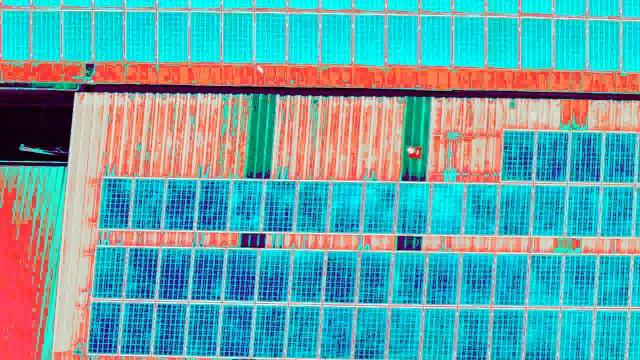dirty: (286, 306, 322, 360), (321, 306, 357, 360), (355, 304, 391, 358), (391, 306, 427, 360), (418, 306, 454, 360), (453, 306, 489, 360), (486, 306, 522, 360), (524, 306, 560, 360), (563, 306, 599, 360), (594, 305, 630, 359), (1, 8, 32, 63), (31, 5, 62, 60), (62, 7, 93, 62), (94, 10, 125, 65), (127, 7, 158, 62), (158, 9, 189, 64), (193, 9, 224, 64), (224, 8, 255, 63), (257, 11, 288, 66), (289, 10, 320, 65), (323, 12, 354, 67), (354, 11, 385, 66), (387, 12, 418, 67), (420, 12, 451, 67), (454, 13, 485, 68), (488, 14, 519, 69), (521, 16, 552, 71), (556, 17, 587, 72), (589, 18, 620, 73)
semi: (534, 128, 572, 180), (497, 129, 535, 181), (572, 131, 610, 183), (94, 176, 132, 228), (132, 175, 166, 229), (165, 176, 199, 230), (197, 179, 231, 233), (229, 179, 263, 233), (259, 178, 293, 232), (292, 180, 326, 234), (327, 180, 361, 234), (363, 181, 397, 235), (395, 181, 429, 235), (428, 182, 462, 236), (463, 181, 497, 235), (499, 182, 533, 236), (532, 183, 566, 237), (569, 182, 603, 236), (90, 246, 124, 300), (125, 246, 159, 300), (157, 246, 191, 300), (193, 246, 225, 300), (227, 252, 259, 306), (259, 250, 291, 304), (290, 251, 322, 305), (325, 250, 357, 304), (358, 253, 390, 307), (392, 254, 424, 308), (426, 254, 458, 308), (458, 253, 490, 307), (494, 252, 526, 306), (530, 253, 562, 307), (560, 253, 592, 307), (597, 253, 629, 307), (88, 301, 120, 355), (121, 303, 153, 357), (157, 301, 189, 355), (184, 303, 216, 357), (222, 303, 254, 357), (255, 305, 287, 359)
